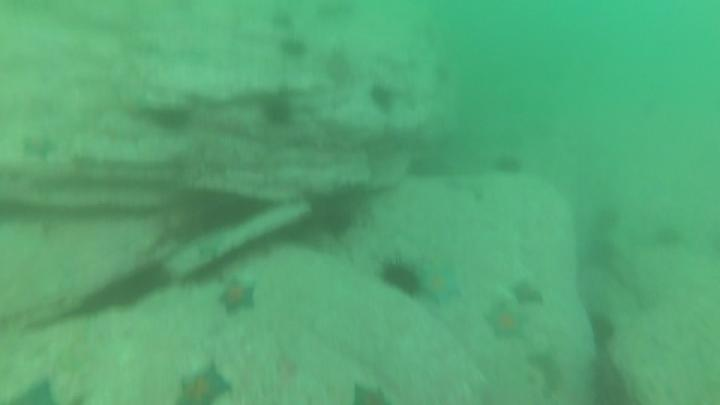echinus: (310, 191, 359, 240), (198, 197, 250, 235), (382, 257, 426, 295), (260, 88, 298, 130), (582, 306, 618, 348), (582, 236, 619, 269), (370, 84, 399, 116), (495, 154, 528, 181), (153, 108, 195, 129), (656, 223, 684, 250), (278, 38, 309, 61), (270, 9, 297, 34)
starfish: (175, 362, 239, 405), (482, 296, 532, 346), (417, 260, 468, 307), (215, 277, 260, 320), (2, 376, 66, 405), (505, 275, 548, 311), (346, 381, 396, 405)
